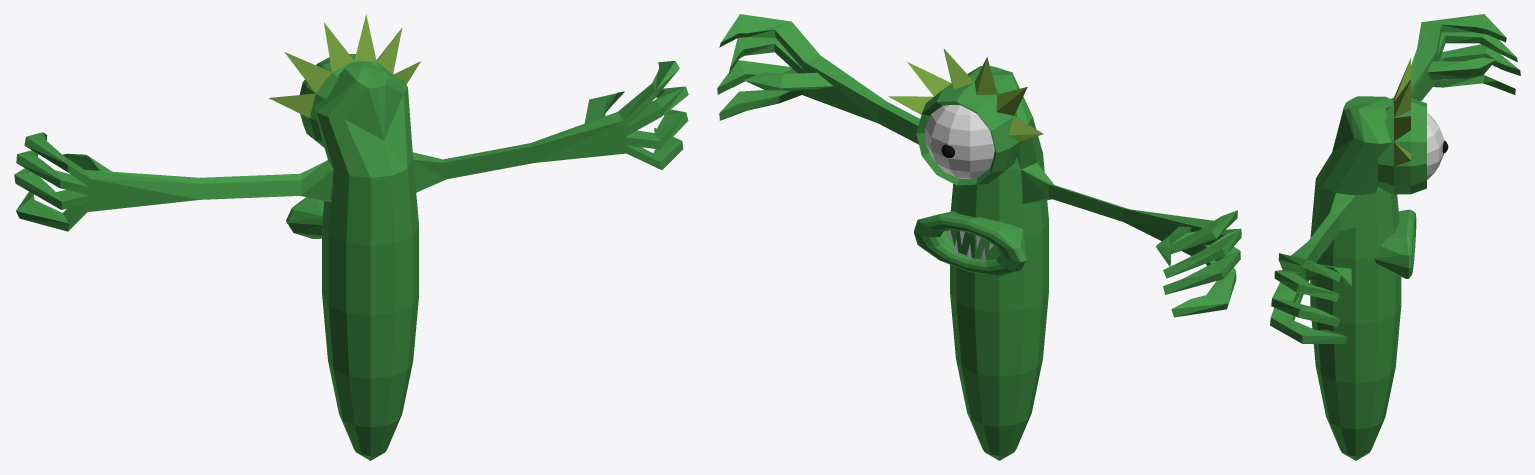
3 renders of one model, left to right at view 1: azimuth 30°, elevation 25°; view 2: azimuth 150°, elevation 25°; view 3: azimuth 270°, elevation 25°, orthographic. The views are drawn at different scales.
Visible parts, largest first — view 1: node_MeshObject1296931136-PolyPaper10; view 2: node_MeshObject1296931136-PolyPaper10; view 3: node_MeshObject1296931136-PolyPaper10.
Part boxes in pixels (<box>): node_MeshObject1296931136-PolyPaper10: <box>14,14,688,460</box>; node_MeshObject1296931136-PolyPaper10: <box>717,14,1241,460</box>; node_MeshObject1296931136-PolyPaper10: <box>1270,14,1520,460</box>.
Bounding box in the file's own units: 6.28 × 4.39 × 2.52.
